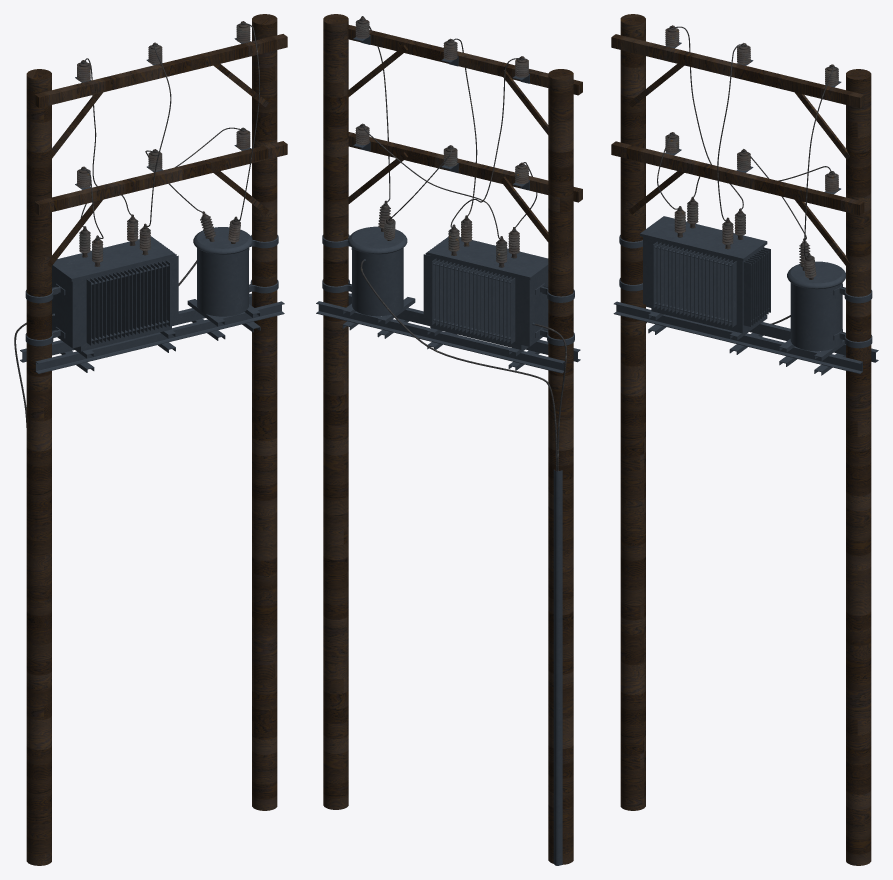
The model's file is TransmissionPole_E.fbx.
3 renders of one model, left to right at view 1: azimuth 30°, elevation 25°; view 2: azimuth 150°, elevation 25°; view 3: azimuth 330°, elevation 25°, orthographic.
Visible parts, largest first — view 1: TransmissionPole_E_LOD_0; view 2: TransmissionPole_E_LOD_0; view 3: TransmissionPole_E_LOD_0.
Boxes of the visible parts, <box> form: TransmissionPole_E_LOD_0: <box>14,14,287,865</box>; TransmissionPole_E_LOD_0: <box>316,14,582,865</box>; TransmissionPole_E_LOD_0: <box>611,14,878,865</box>.
Size of the model in its own units: 595 by 1778 by 157.
